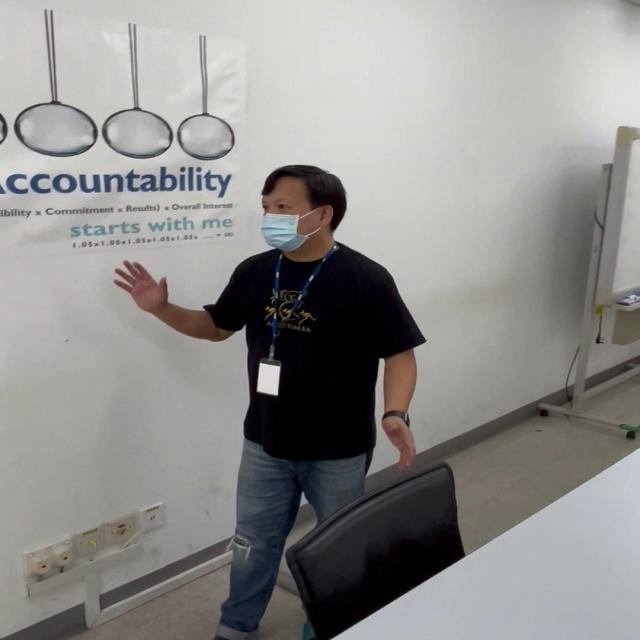bare_hand: (112, 254, 167, 317), (377, 411, 418, 471)
